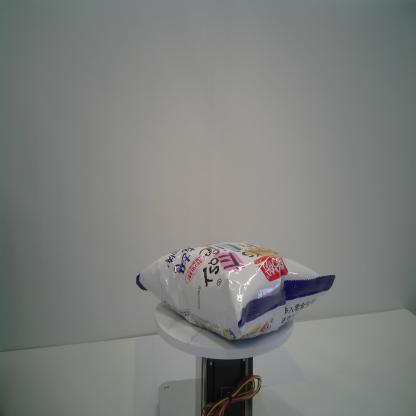Puffed Food: (134, 239, 336, 345)
